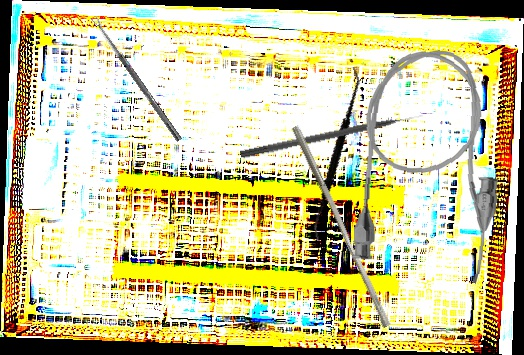Cannula: (351, 45, 507, 285)
Pusher: (283, 124, 399, 329), (239, 111, 425, 161)
Spatula Surgical: (270, 66, 401, 241)
Surgical Spoon: (91, 15, 183, 142)
